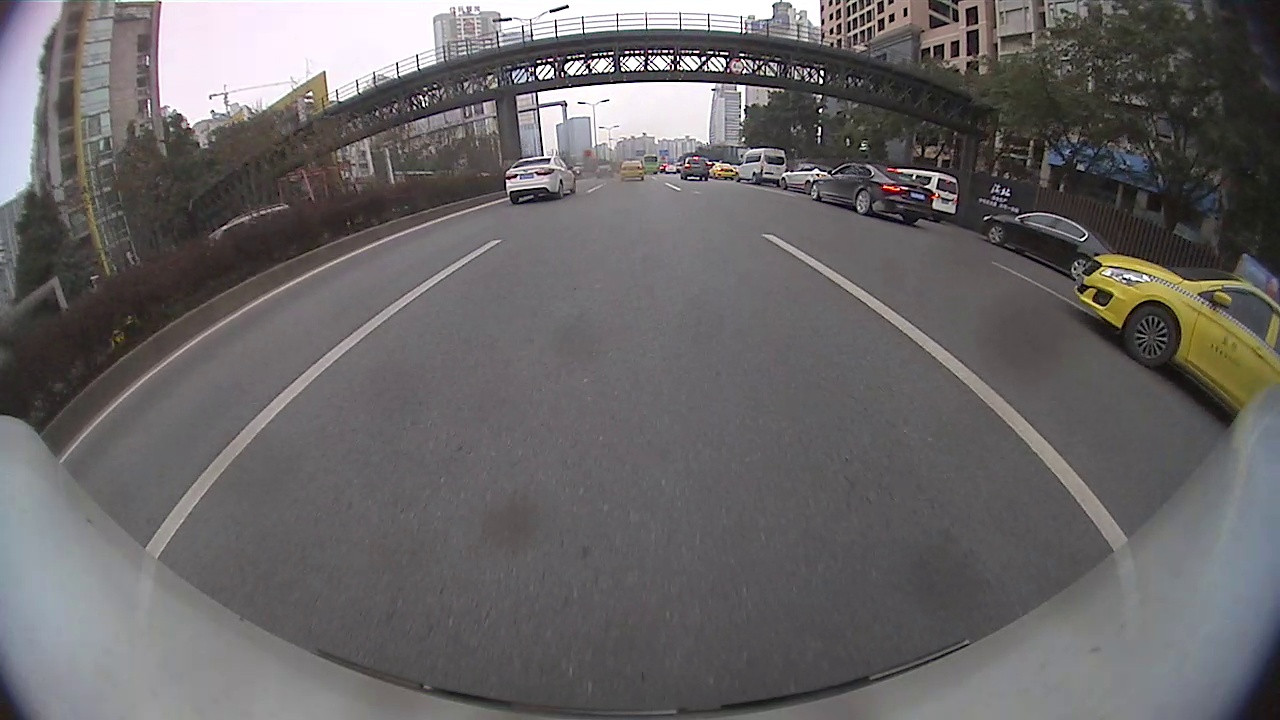car: (1074, 253, 1279, 416), (981, 211, 1115, 277), (812, 162, 935, 227), (888, 166, 960, 219), (504, 156, 577, 206), (739, 148, 786, 185), (782, 164, 831, 194), (681, 156, 707, 184), (620, 160, 645, 181)
front: (1123, 305, 1179, 367), (985, 225, 1008, 248), (810, 184, 821, 200)
rear: (1071, 258, 1095, 284), (856, 187, 874, 215)
